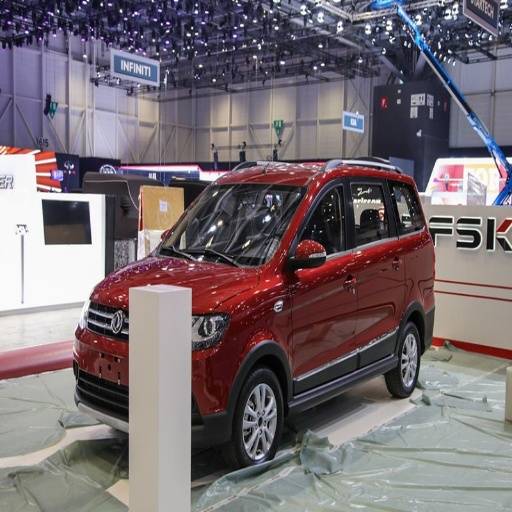front_glass: (162, 183, 304, 263)
trunk: (135, 287, 190, 348)
